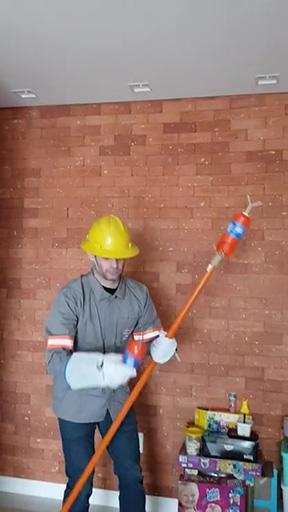Detector_Tensao_Contato: (213, 193, 264, 258)
Vara_Manobra: (57, 267, 210, 512)
